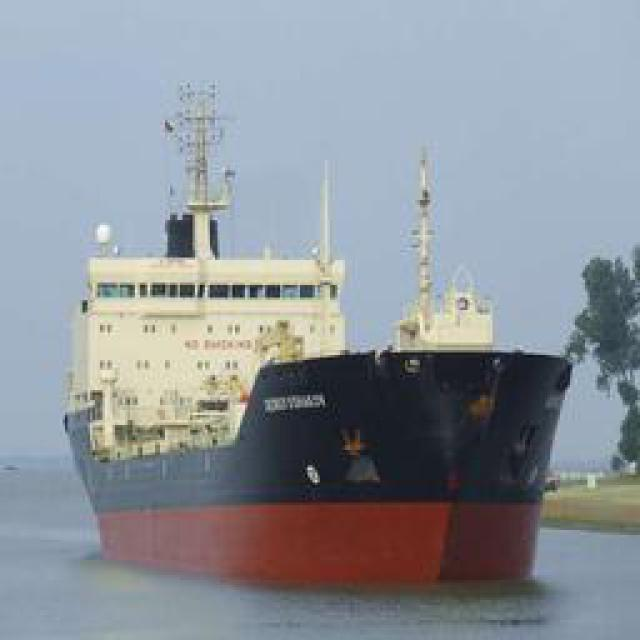Ship: (73, 244, 588, 594)
